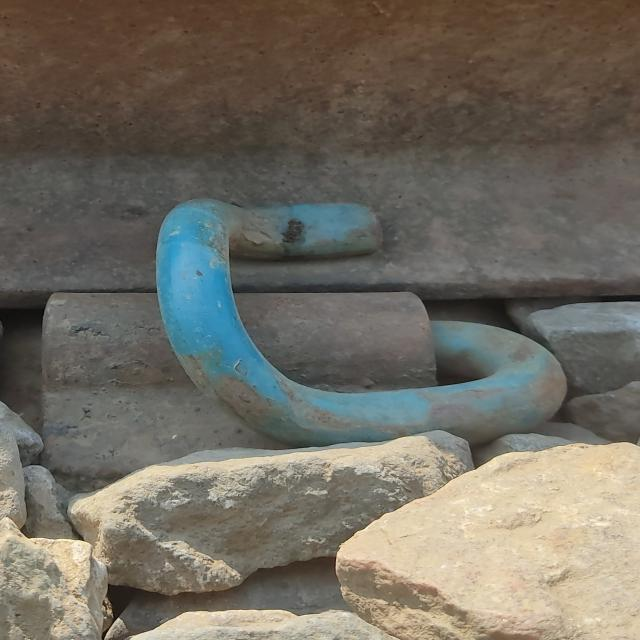track_bolt: (140, 187, 577, 451)
